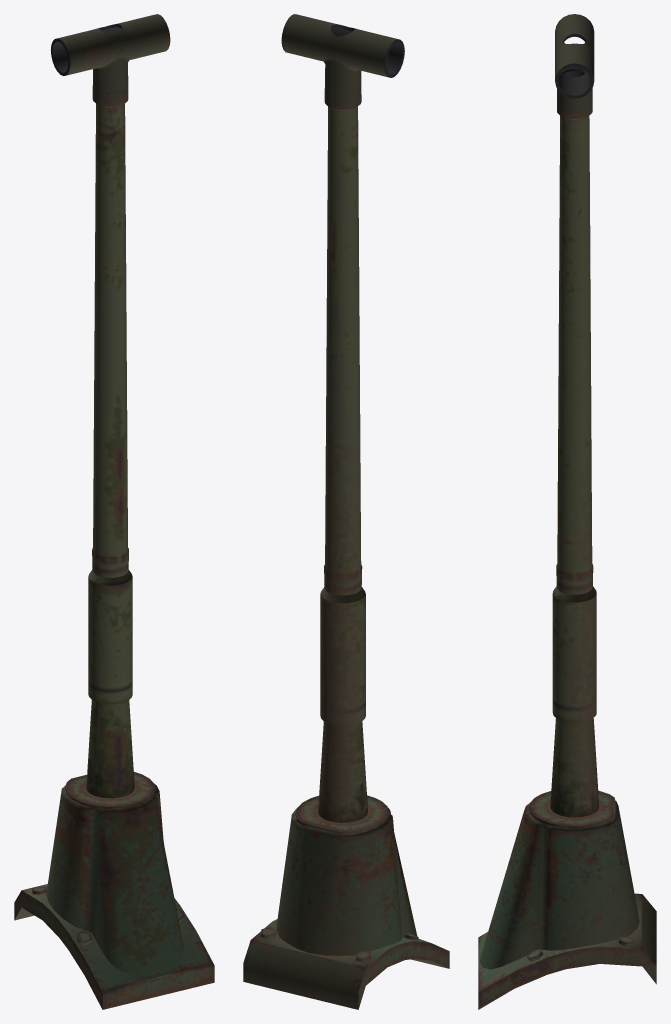
File: Gun_10.glb
The picture shows the model from 3 angles, left to right: view 1: azimuth 30°, elevation 25°; view 2: azimuth 150°, elevation 25°; view 3: azimuth 270°, elevation 25°; orthographic projection. The views are drawn at different scales.
Parts seen in each view (by area): view 1: set_0_group_0; view 2: set_0_group_0; view 3: set_0_group_0.
Part boxes in pixels (x1=…): set_0_group_0: x1=14, y1=14, x2=214, y2=1009; set_0_group_0: x1=243, y1=14, x2=449, y2=1009; set_0_group_0: x1=478, y1=14, x2=656, y2=1009.
Size of the model in its own units: 0.4668 by 3.72 by 0.6379.
1 material, 1 textured.
